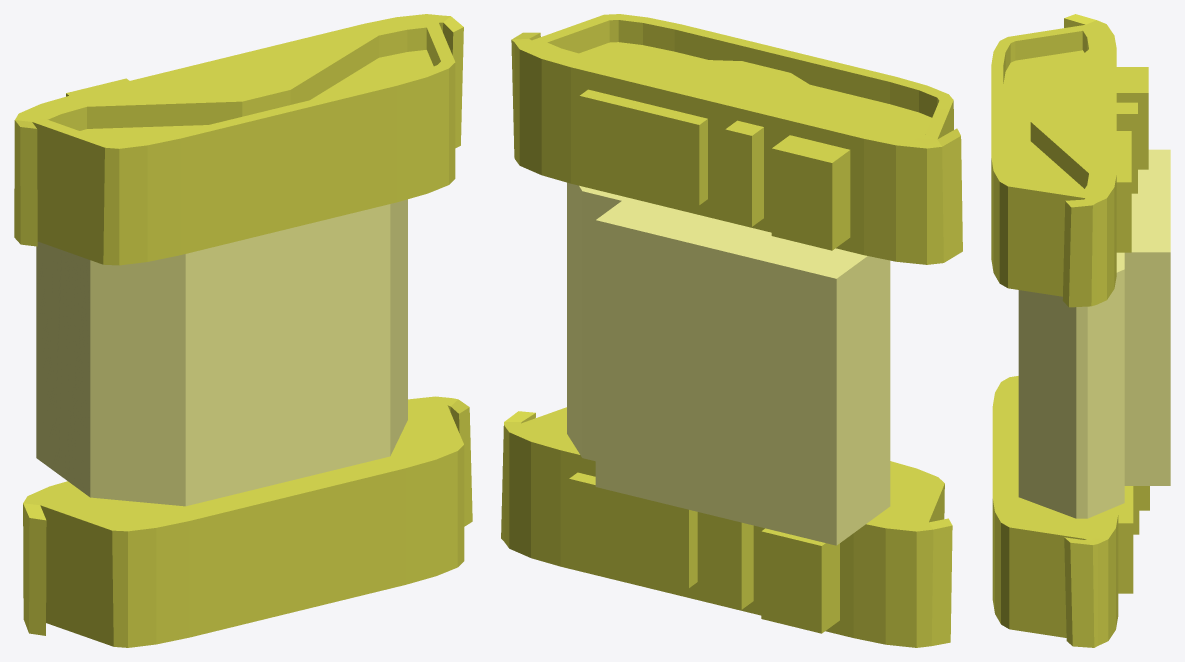
File: Enemy03Body.fbx
3 views of the same model, side by side, from view 1: azimuth 30°, elevation 25°; view 2: azimuth 150°, elevation 25°; view 3: azimuth 270°, elevation 25° (orthographic). The views are drawn at different scales.
Visible parts, largest first — view 1: Body; view 2: Body; view 3: Body.
Boxes of the visible parts, x1=… form: Body: x1=14, y1=14, x2=472, y2=647; Body: x1=501, y1=14, x2=962, y2=647; Body: x1=991, y1=14, x2=1170, y2=647.
Bounding box in the file's own units: 220 × 237 × 86.45.
Materials: 1 (1 with a texture image).
